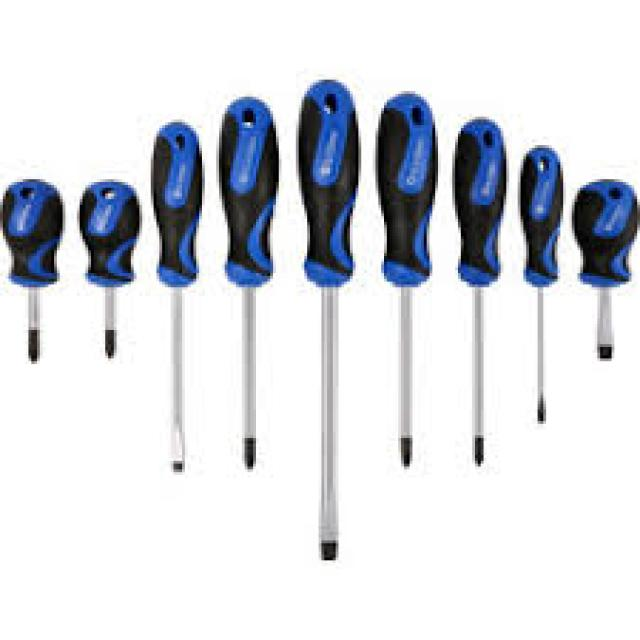screw driver: (286, 72, 372, 597)
